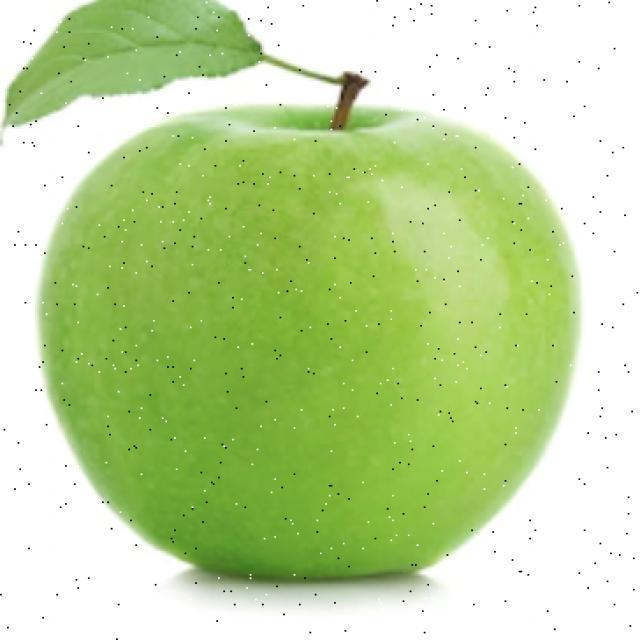Fresh Apple: (32, 95, 590, 583)
